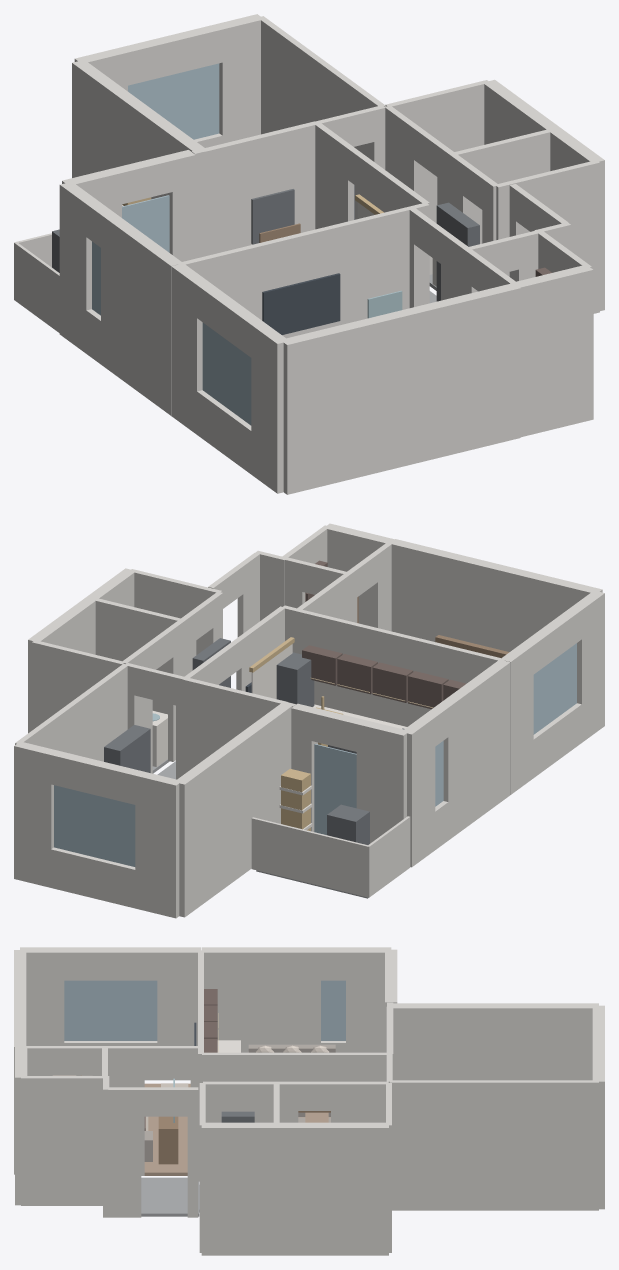
Rendered from kvartira-warm-two-dinner.glb.
The picture shows the model from 3 angles, top to bottom: view 1: azimuth 30°, elevation 25°; view 2: azimuth 150°, elevation 25°; view 3: azimuth 270°, elevation 25°; orthographic projection. The views are drawn at different scales.
Visible parts, largest first — view 1: wall_w_l_s_166_612_0.0, wall_w_dividing_168_644_0.0, wall_w_closet_s_612_752_0.0, wall_w_k_w_559_791_0.0, wall_w_top_s_426_660_0.0, wall_w_top_w_20_423_0.0, wall_w_top_e_20_425_0.0, wall_w_wc_s_777_971_0.0, wall_w_l_w_1057_1143_0.0, wall_w_top_n_691_771_0.0, wall_w_bath_n_777_971_0.0, wall_w_k_w_423_511_0.0 (+40 smaller); view 2: wall_w_l_s_166_612_0.0, wall_w_top_w_20_423_0.0, wall_w_dividing_168_644_0.0, wall_w_k_w_559_791_0.0, wall_w_top_n_422_510_0.0, wall_w_log_n_159_409_0.0, wall_w_top_n_691_771_0.0, wall_w_top_e_20_425_0.0, wall_w_top_n_510_691_0.8, wall_w_k_n1_165_266_0.0, wall_w_k_n2_408_643_0.0, wall_w_bath_n_777_971_0.0 (+51 smaller); view 3: wall_w_top_e_20_425_0.0, wall_w_bath_e_427_791_0.0, wall_w_top_w_20_423_0.0, wall_w_k_w_559_791_0.0, wall_w_closet_e_978_1141_0.0, wall_w_l_w_877_1057_0.8, wall_w_entry_e_908_972_0.0, wall_w_l_w_792_877_0.0, wall_w_k_w_423_511_0.0, wall_w_l_w_1057_1143_0.0, wall_w_l_w_877_1057_2.1, wall_w_k_e_625_790_0.0 (+28 smaller).
Part boxes in pixels (<box>): wall_w_l_s_166_612_0.0: <box>281,283,520,494</box>; wall_w_dividing_168_644_0.0: <box>178,202,429,338</box>; wall_w_closet_s_612_752_0.0: <box>516,265,593,437</box>; wall_w_k_w_559_791_0.0: <box>101,212,182,415</box>; wall_w_top_s_426_660_0.0: <box>204,119,327,256</box>; wall_w_top_w_20_423_0.0: <box>72,60,204,199</box>; wall_w_top_e_20_425_0.0: <box>258,16,385,219</box>; wall_w_wc_s_777_971_0.0: <box>495,161,599,313</box>; wall_w_l_w_1057_1143_0.0: <box>251,322,289,493</box>; wall_w_top_n_691_771_0.0: <box>216,14,263,143</box>; wall_w_bath_n_777_971_0.0: <box>385,80,489,223</box>; wall_w_k_w_423_511_0.0: <box>59,183,98,353</box>; wall_w_l_s_166_612_0.0: <box>390,539,602,651</box>; wall_w_top_w_20_423_0.0: <box>174,703,292,917</box>; wall_w_dividing_168_644_0.0: <box>282,605,505,726</box>; wall_w_k_w_559_791_0.0: <box>437,659,510,840</box>; wall_w_top_n_422_510_0.0: <box>135,771,181,918</box>; wall_w_log_n_159_409_0.0: <box>251,817,368,897</box>; wall_w_top_n_691_771_0.0: <box>14,742,56,887</box>; wall_w_top_e_20_425_0.0: <box>15,663,127,761</box>; wall_w_top_n_510_691_0.8: <box>54,785,135,866</box>; wall_w_k_n1_165_266_0.0: <box>356,719,409,843</box>; wall_w_k_n2_408_643_0.0: <box>183,679,295,774</box>; wall_w_bath_n_777_971_0.0: <box>32,641,124,730</box>; wall_w_top_e_20_425_0.0: <box>390,1080,598,1210</box>; wall_w_bath_e_427_791_0.0: <box>201,1122,388,1255</box>; wall_w_top_w_20_423_0.0: <box>391,1003,598,1080</box>; wall_w_k_w_559_791_0.0: <box>201,947,320,1052</box>; wall_w_closet_e_978_1141_0.0: <box>21,1076,104,1205</box>; wall_w_l_w_877_1057_0.8: <box>64,980,157,1040</box>; wall_w_entry_e_908_972_0.0: <box>108,1087,141,1217</box>; wall_w_l_w_792_877_0.0: <box>157,947,200,1080</box>; wall_w_k_w_423_511_0.0: <box>346,947,391,1052</box>; wall_w_l_w_1057_1143_0.0: <box>20,947,64,1045</box>; wall_w_l_w_877_1057_2.1: <box>64,947,157,980</box>; wall_w_k_e_625_790_0.0: <box>202,1052,286,1111</box>.
Bounding box in the file's own units: 8.24 × 2.77 × 11.41.
